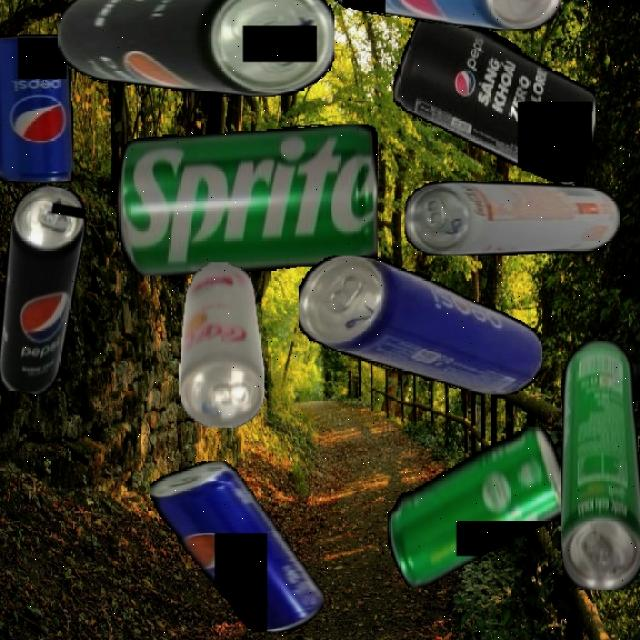debris: (115, 124, 378, 276), (392, 8, 596, 184), (299, 255, 542, 394), (149, 461, 323, 632), (387, 426, 561, 588), (56, 0, 334, 97), (558, 339, 640, 590), (0, 181, 91, 398), (404, 180, 620, 256), (178, 261, 264, 428), (0, 34, 73, 183), (326, 0, 561, 30)
